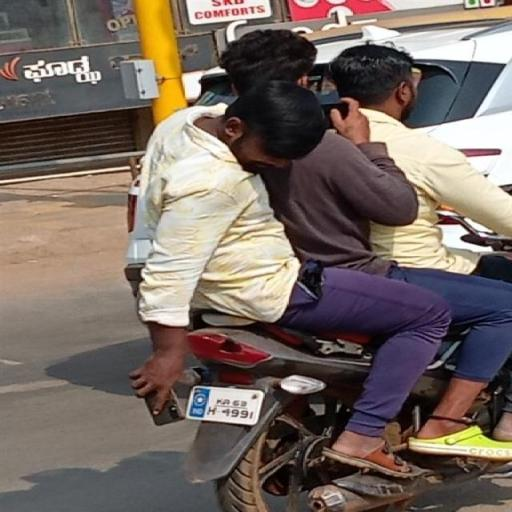tripple riding: (121, 28, 512, 344)
